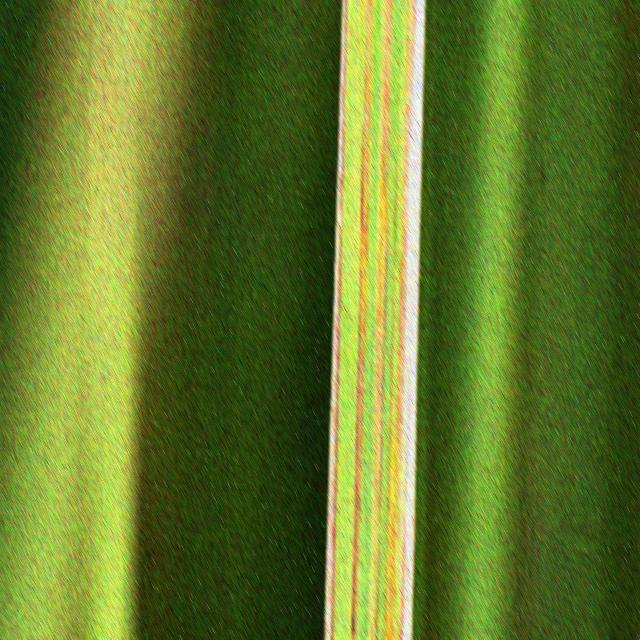BLS: (384, 0, 410, 640), (401, 0, 426, 640), (324, 0, 347, 640), (370, 0, 391, 640), (351, 0, 372, 640), (359, 0, 361, 78)
